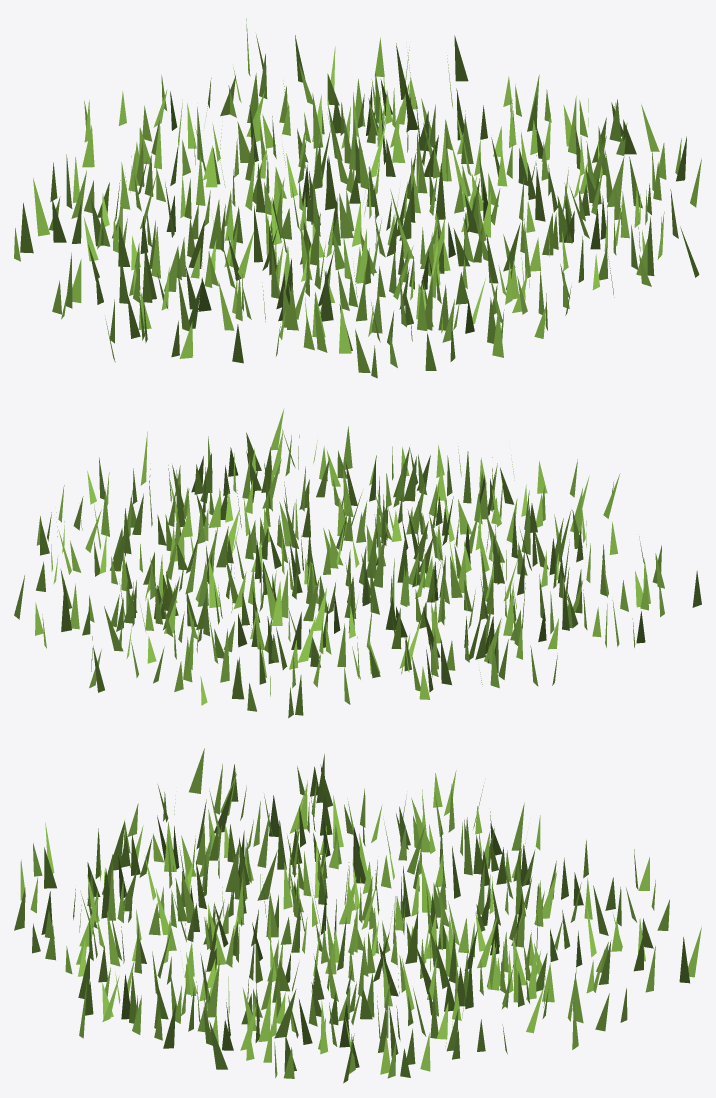
File: GrassC.glb
The picture shows the model from 3 angles, top to bottom: view 1: azimuth 30°, elevation 25°; view 2: azimuth 150°, elevation 25°; view 3: azimuth 270°, elevation 25°; orthographic projection. The views are drawn at different scales.
Visible parts, largest first — view 1: GrassC.bladesMid, GrassC.bladesDark, GrassC.bladesLight; view 2: GrassC.bladesMid, GrassC.bladesDark, GrassC.bladesLight; view 3: GrassC.bladesMid, GrassC.bladesDark, GrassC.bladesLight.
Boxes of the visible parts, left/top/right/bottom form: GrassC.bladesMid: left=14, top=18, right=701, bottom=370; GrassC.bladesDark: left=52, top=34, right=686, bottom=378; GrassC.bladesLight: left=50, top=46, right=681, bottom=372; GrassC.bladesMid: left=35, top=408, right=664, bottom=718; GrassC.bladesDark: left=14, top=426, right=701, bottom=692; GrassC.bladesLight: left=40, top=435, right=642, bottom=705; GrassC.bladesMid: left=14, top=764, right=701, bottom=1083; GrassC.bladesDark: left=33, top=748, right=689, bottom=1078; GrassC.bladesLight: left=30, top=773, right=669, bottom=1078.
Size of the model in its own units: 8.35 by 0.7 by 8.29.
